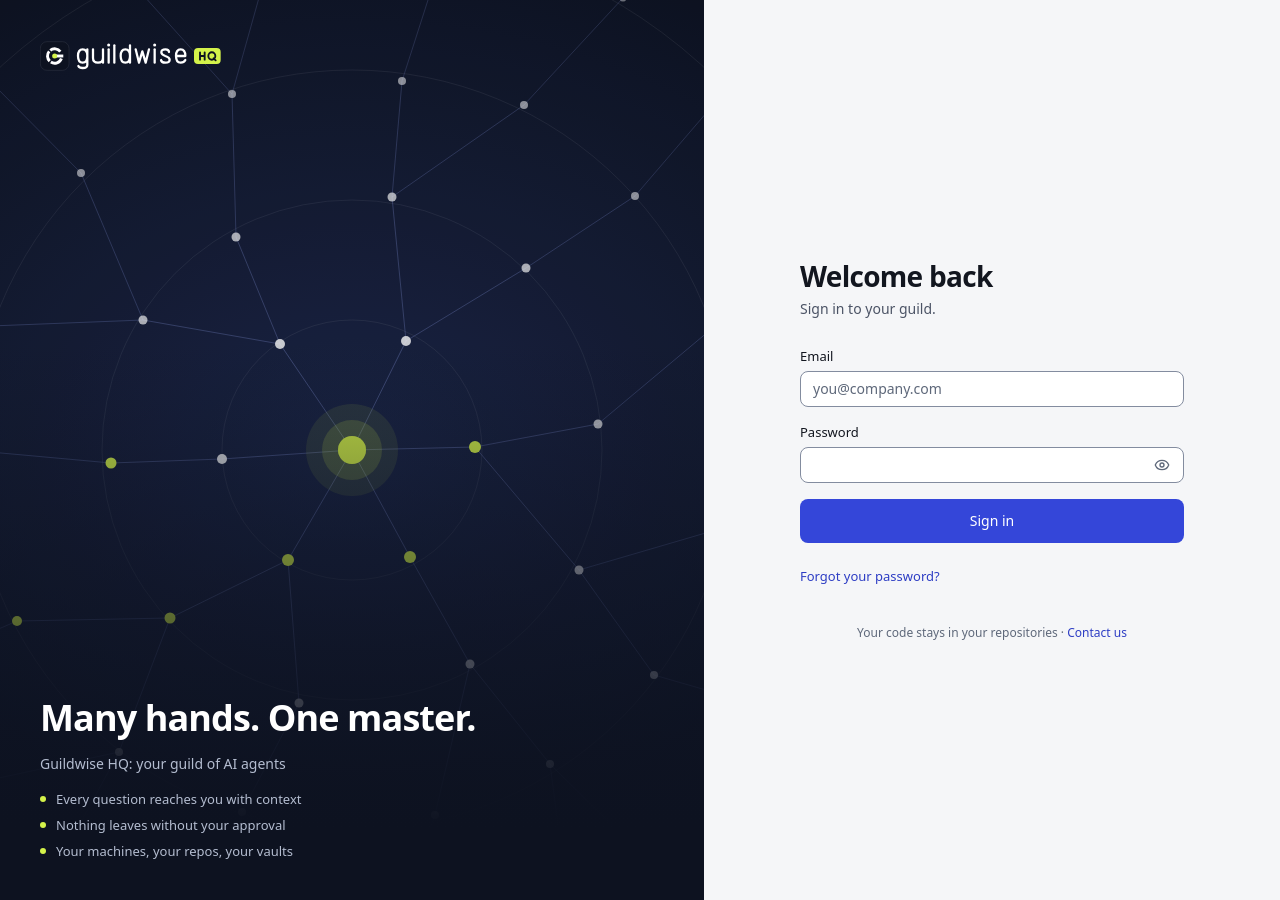
Test: login screen › answers a failed attempt with one alert and clears the password
Type "ada@example.com" into the field labelled "Email". click: (992, 389)
box: [800, 371, 1184, 407]
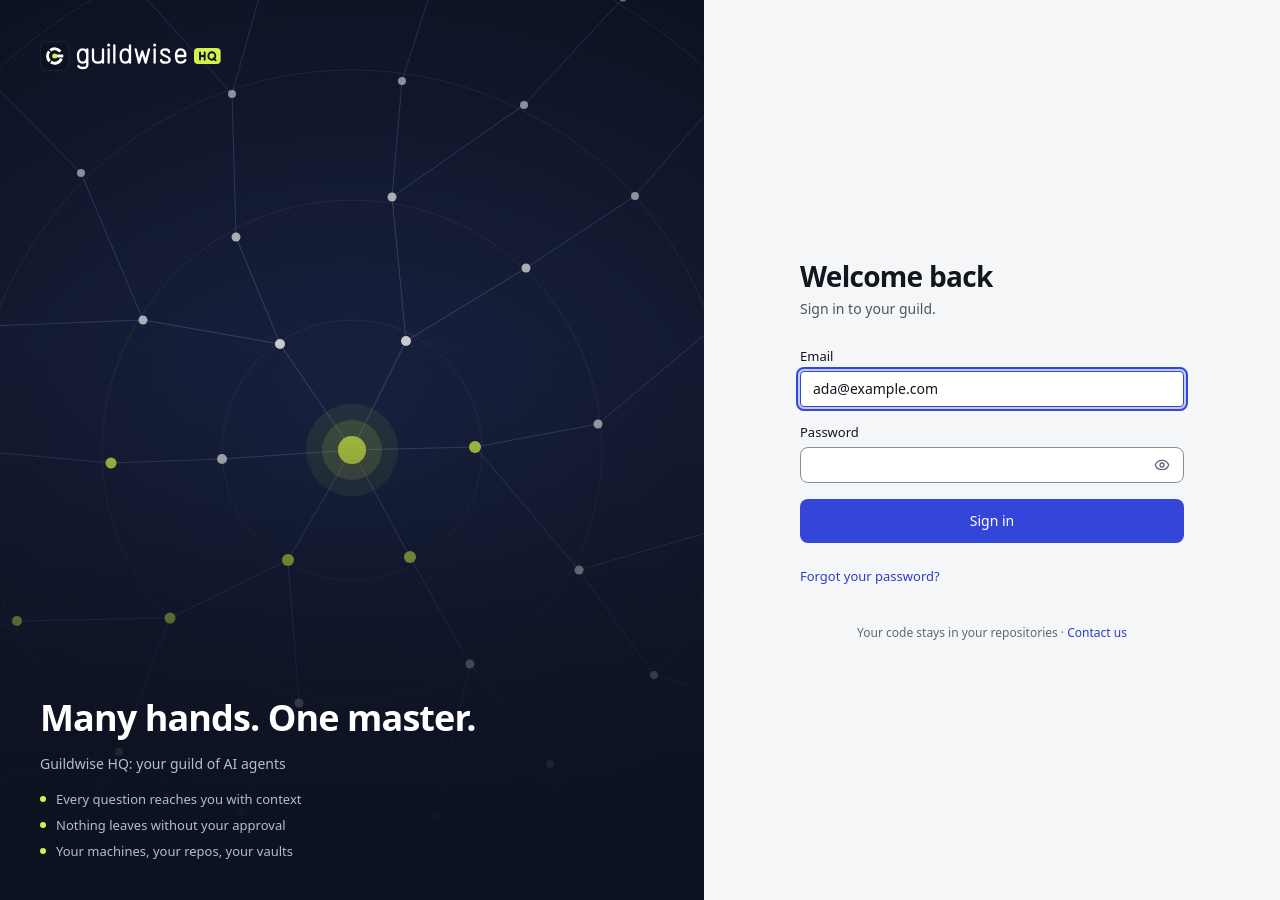
Type "wrong-password-xx" into the password field labelled "Password". click: (992, 465)
box: [800, 447, 1184, 483]
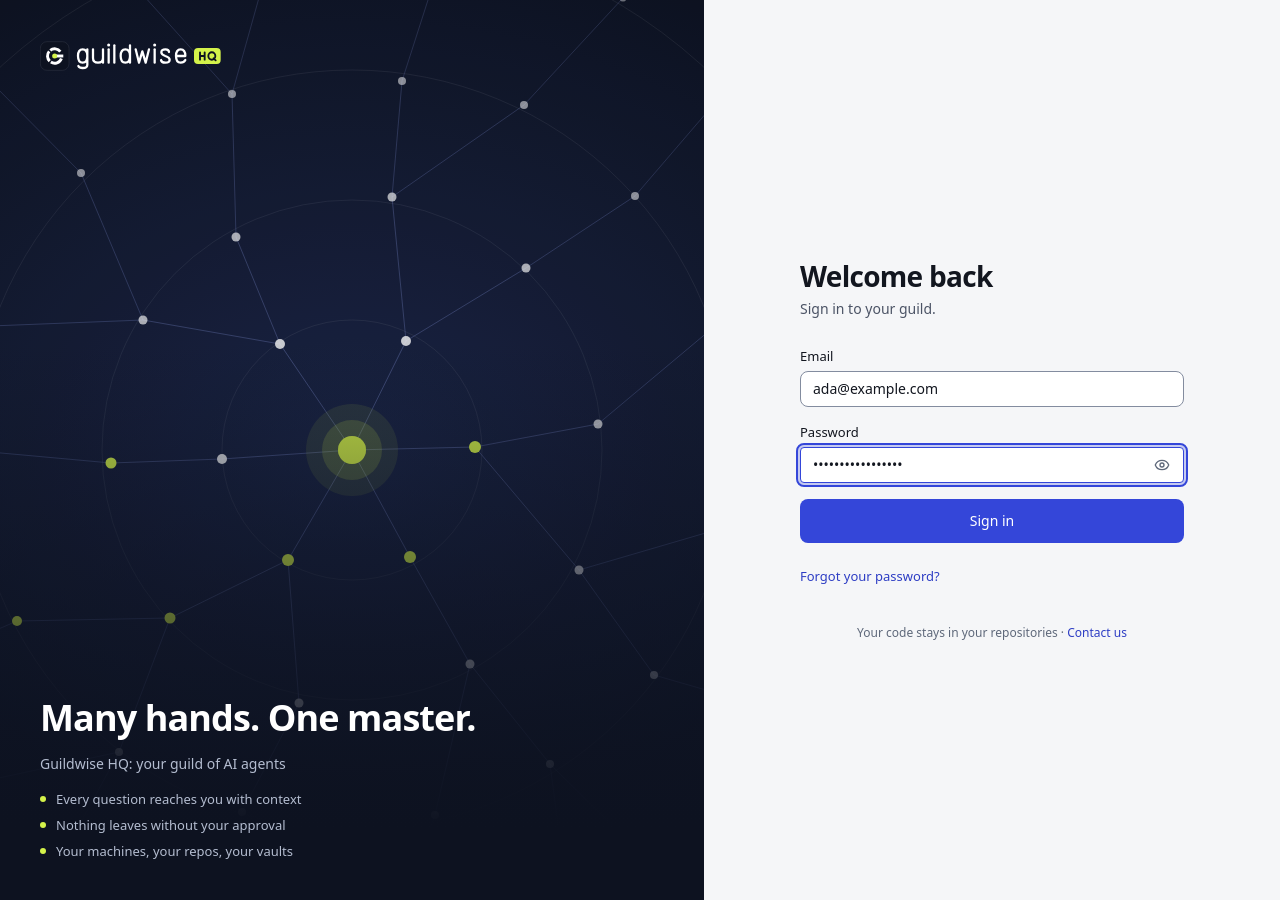
Click the button "Sign in". click: (992, 521)
box: [800, 499, 1184, 543]
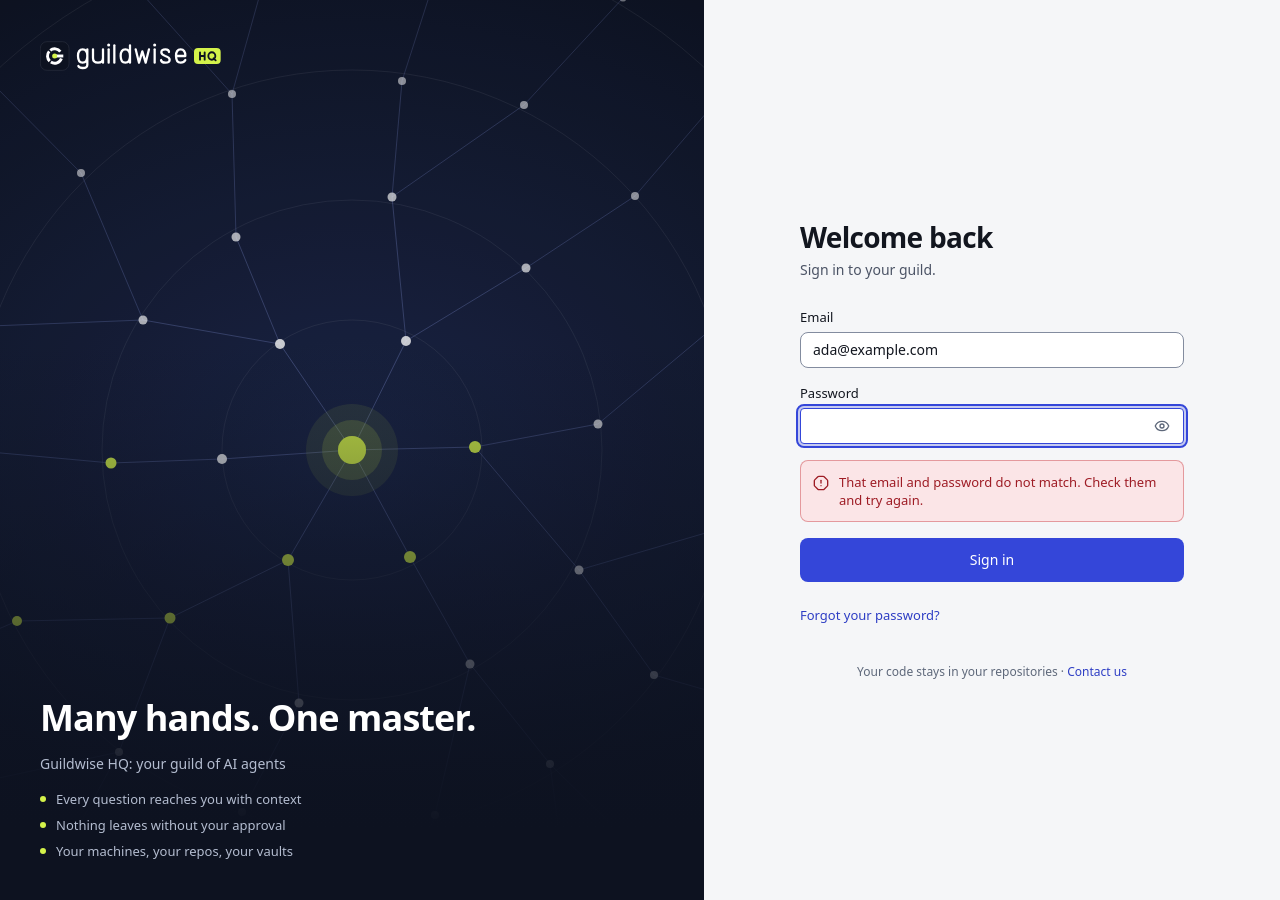
Check: the message shows "do not match", box [839, 473, 1156, 509]
Check: the password field labelled "Password" is empty, box [800, 408, 1184, 444]
